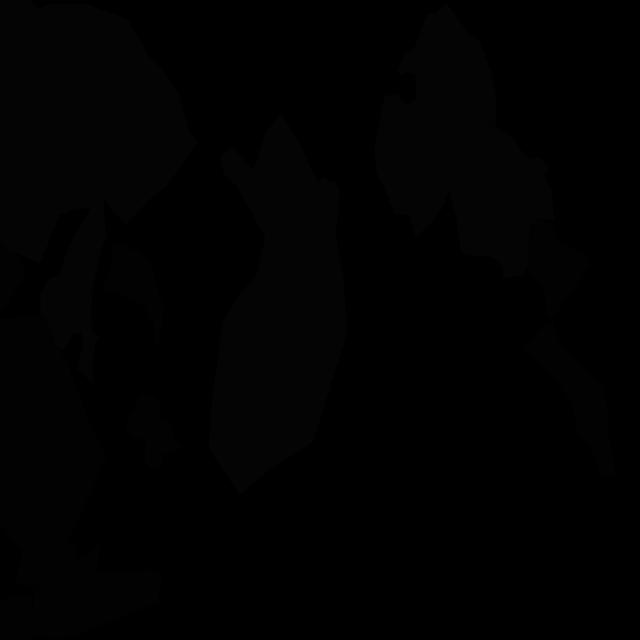cardboard: (0, 313, 107, 588), (523, 321, 615, 477), (34, 541, 163, 640), (526, 218, 592, 318), (104, 244, 164, 351), (126, 393, 185, 468), (0, 243, 25, 314), (0, 596, 36, 640)
soft_plastic: (208, 112, 347, 495), (374, 2, 497, 237), (444, 101, 554, 277)
